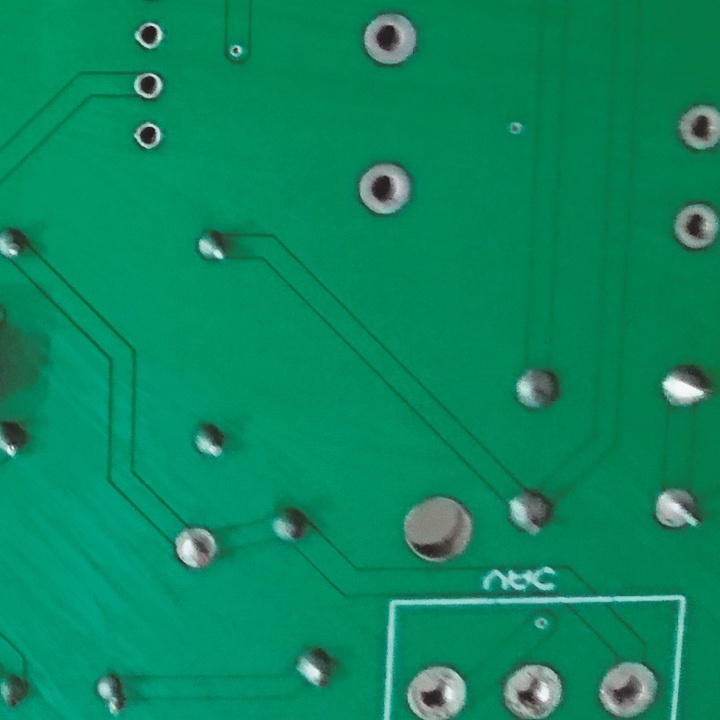F: (593, 657, 663, 720), (501, 662, 575, 720), (404, 660, 475, 720), (357, 9, 425, 65), (355, 159, 414, 219), (653, 482, 716, 538), (167, 523, 220, 578), (667, 201, 720, 254), (673, 102, 720, 158), (127, 115, 166, 158), (130, 17, 164, 55), (131, 72, 167, 103)
